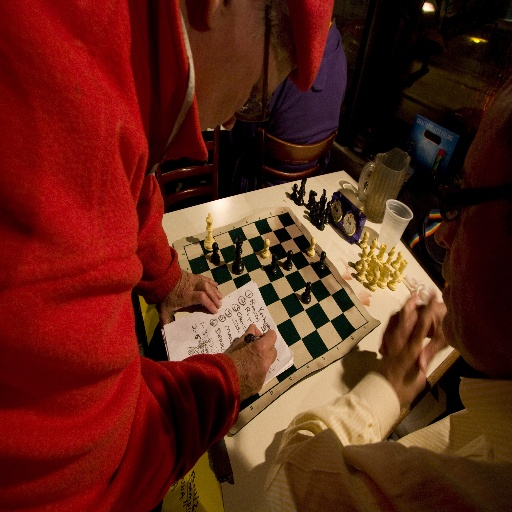hand: (217, 320, 278, 403), (380, 304, 451, 375), (157, 267, 223, 328)
